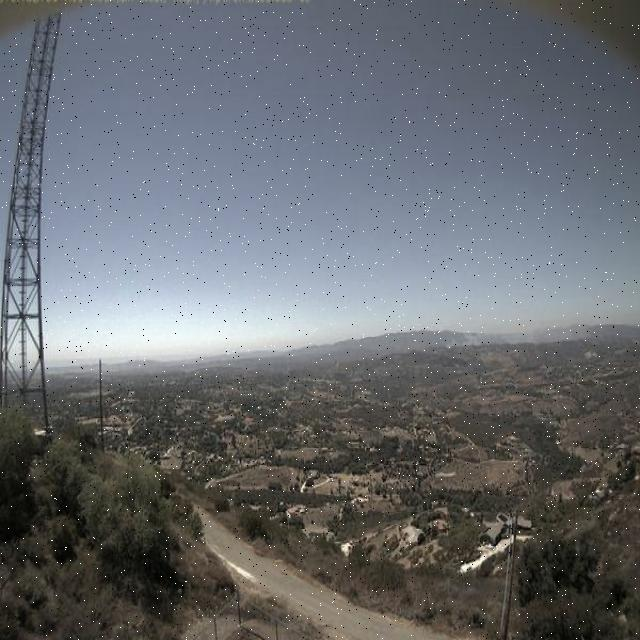smoke: (443, 312, 594, 349)
